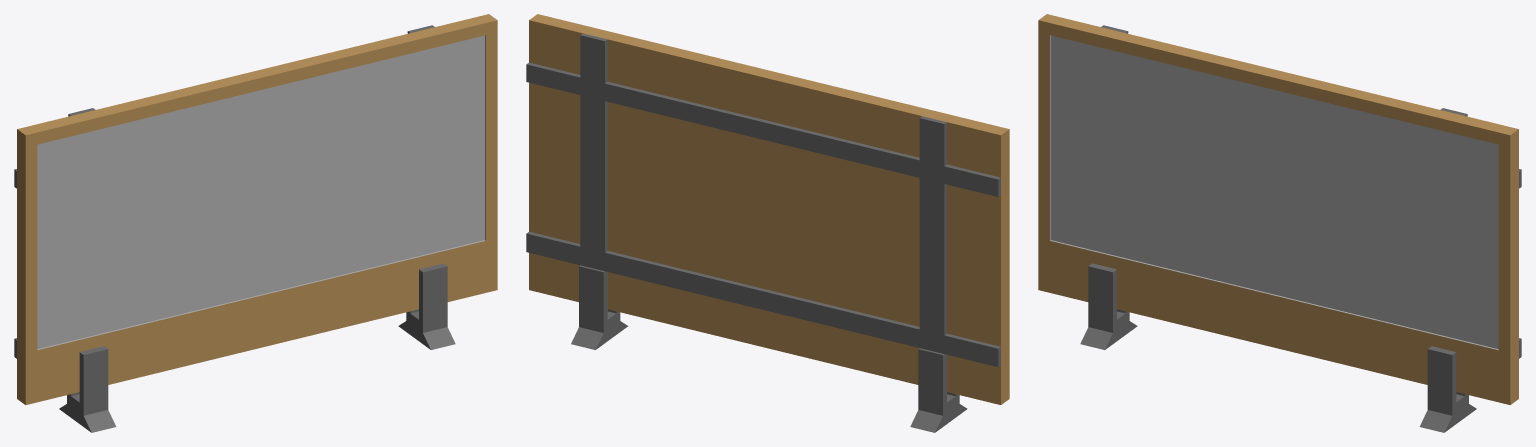
Rendered from Roadside Billboard 1.fbx.
3 views of the same model, side by side, from view 1: azimuth 30°, elevation 25°; view 2: azimuth 150°, elevation 25°; view 3: azimuth 330°, elevation 25° (orthographic).
Visible parts, largest first — view 1: Roadside Billboard 1; view 2: Roadside Billboard 1; view 3: Roadside Billboard 1.
Boxes of the visible parts, left/top/right/bottom form: Roadside Billboard 1: left=14, top=14, right=497, bottom=432; Roadside Billboard 1: left=526, top=14, right=1009, bottom=432; Roadside Billboard 1: left=1038, top=14, right=1521, bottom=432.
Bounding box in the file's own units: 7.5 × 0.9049 × 4.58.
